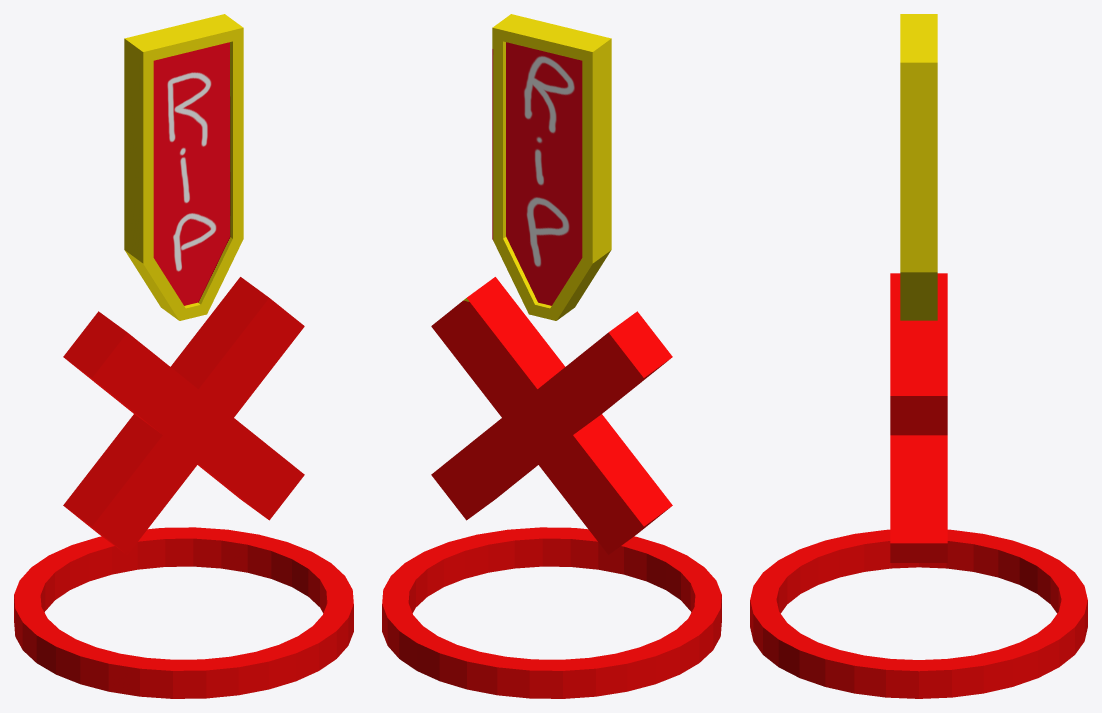
The model's file is RipSymbol.fbx.
3 renders of one model, left to right at view 1: azimuth 30°, elevation 25°; view 2: azimuth 150°, elevation 25°; view 3: azimuth 270°, elevation 25°, orthographic.
Parts seen in each view (by area): view 1: Cube; view 2: Cube; view 3: Cube.
Boxes of the visible parts, <box> form: Cube: <box>14,14,353,698</box>; Cube: <box>382,14,721,698</box>; Cube: <box>750,14,1087,698</box>.
Bounding box in the file's own units: 176 × 339 × 176.
